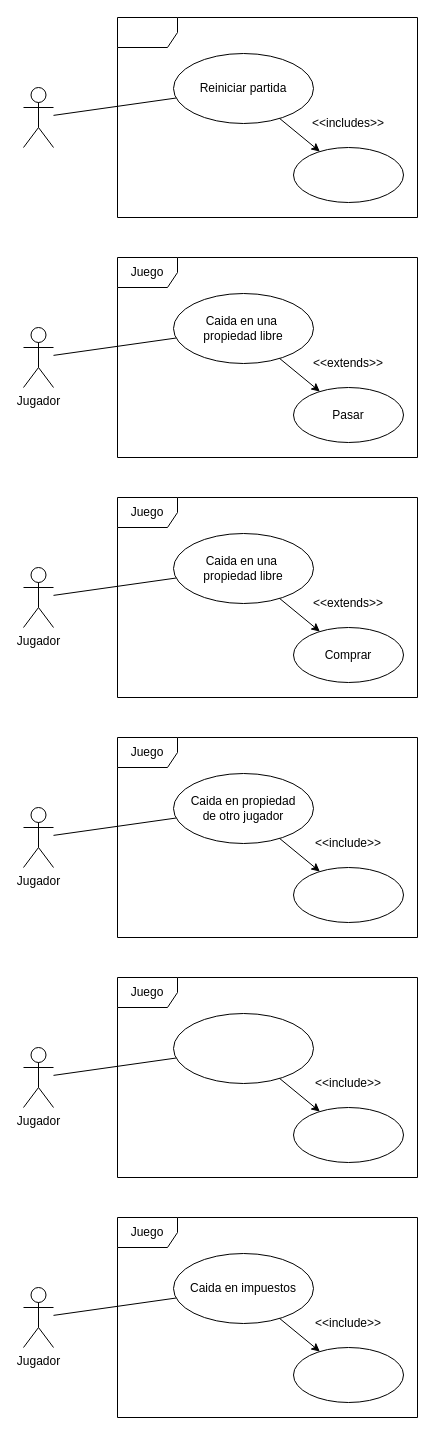
The diagram is 435 pixels wide and 1435 high, and some of its shapes have lost their labels. Each missing label, with the box of its shape:
Master: (22, 86, 54, 148)
Pagar alquiler: (292, 866, 404, 922)
Reinicio: (116, 16, 418, 218)
Rellenar formulario: (292, 146, 404, 202)
Restar impuestos: (292, 1346, 404, 1402)
Sumar dinero: (292, 1106, 404, 1162)
Vuelta completa dada: (172, 1012, 314, 1084)
